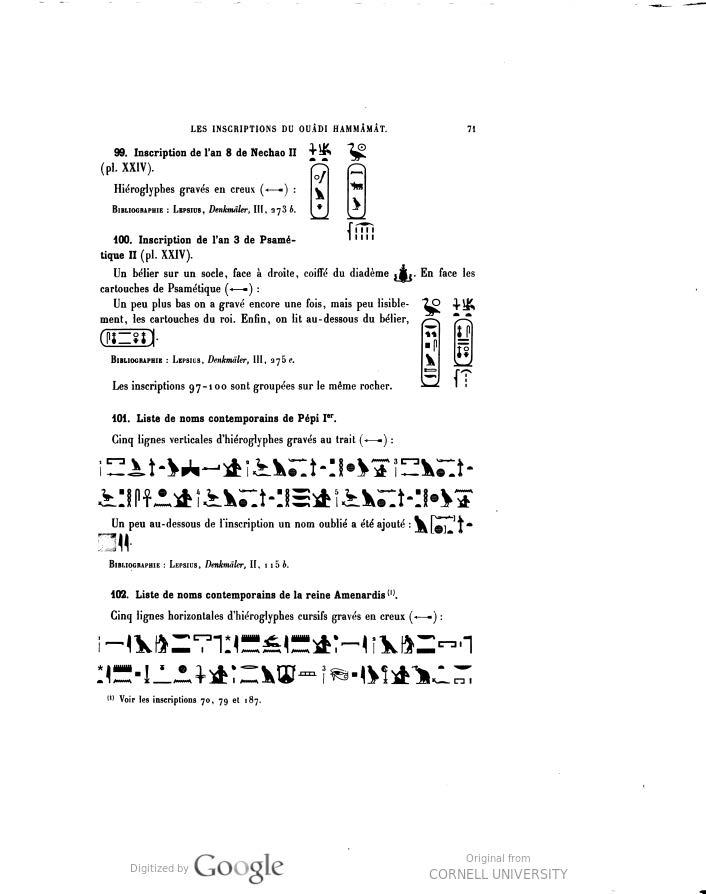circle: (339, 152, 383, 233), (97, 319, 164, 364), (411, 314, 446, 399), (447, 306, 484, 386), (303, 158, 339, 229)
